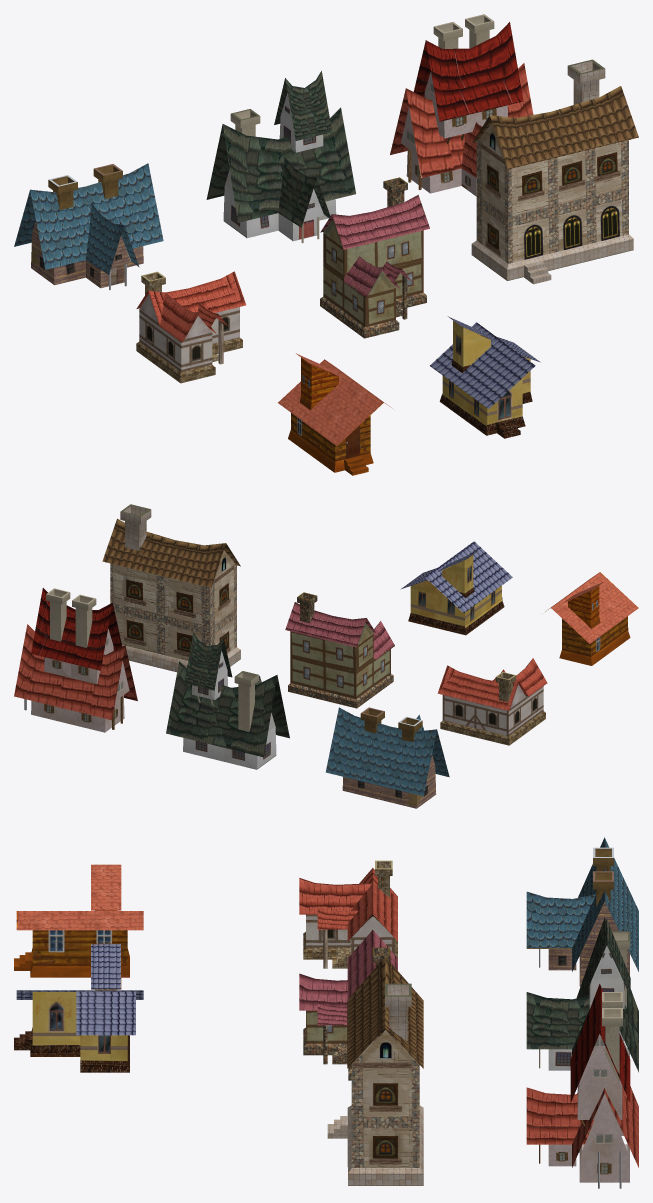
Rendered from drag houses.fbx.
The picture shows the model from 3 angles, top to bottom: view 1: azimuth 30°, elevation 25°; view 2: azimuth 150°, elevation 25°; view 3: azimuth 270°, elevation 25°; orthographic projection. The views are drawn at different scales.
Visible parts, largest first — view 1: hose:group3_hose:polySurface3, hose1:group5_hose:polySurface3, hose1:group6_hose:polySurface3, hose1:group4_hose:polySurface3, hose:group1_hose:polySurface5, hose:group2_hose:polySurface5, hose:polySurface23, hose:polySurface17_hose:polySurface18; view 2: hose:group3_hose:polySurface3, hose1:group6_hose:polySurface3, hose1:group5_hose:polySurface3, hose1:group4_hose:polySurface3, hose:group1_hose:polySurface5, hose:group2_hose:polySurface5, hose:polySurface23, hose:polySurface17_hose:polySurface18; view 3: hose:group3_hose:polySurface3, hose1:group6_hose:polySurface3, hose:polySurface23, hose1:group4_hose:polySurface3, hose:polySurface17_hose:polySurface18, hose1:group5_hose:polySurface3, hose:group2_hose:polySurface5, hose:group1_hose:polySurface5.
Part boxes in pixels (bbox=[...]): hose:group3_hose:polySurface3: bbox=[471, 59, 638, 284]; hose1:group5_hose:polySurface3: bbox=[206, 71, 355, 243]; hose1:group6_hose:polySurface3: bbox=[390, 14, 533, 196]; hose1:group4_hose:polySurface3: bbox=[14, 163, 163, 288]; hose:group1_hose:polySurface5: bbox=[320, 177, 429, 338]; hose:group2_hose:polySurface5: bbox=[136, 271, 245, 383]; hose:polySurface23: bbox=[430, 316, 540, 438]; hose:polySurface17_hose:polySurface18: bbox=[278, 353, 392, 475]; hose:group3_hose:polySurface3: bbox=[102, 504, 240, 672]; hose1:group6_hose:polySurface3: bbox=[14, 588, 137, 732]; hose1:group5_hose:polySurface3: bbox=[166, 632, 289, 769]; hose1:group4_hose:polySurface3: bbox=[325, 707, 449, 808]; hose:group1_hose:polySurface5: bbox=[285, 592, 394, 708]; hose:group2_hose:polySurface5: bbox=[437, 658, 547, 745]; hose:polySurface23: bbox=[400, 541, 512, 635]; hose:polySurface17_hose:polySurface18: bbox=[545, 572, 638, 665]; hose:group3_hose:polySurface3: bbox=[327, 956, 423, 1185]; hose1:group6_hose:polySurface3: bbox=[526, 984, 638, 1188]; hose:polySurface23: bbox=[14, 943, 143, 1072]; hose1:group4_hose:polySurface3: bbox=[526, 837, 638, 986]; hose:polySurface17_hose:polySurface18: bbox=[14, 864, 143, 977]; hose1:group5_hose:polySurface3: bbox=[526, 918, 638, 1072]; hose:group2_hose:polySurface5: bbox=[299, 860, 397, 968]; hose:group1_hose:polySurface5: bbox=[299, 930, 397, 1080].
Size of the model in its own units: 64.8 by 22.07 by 66.47.
